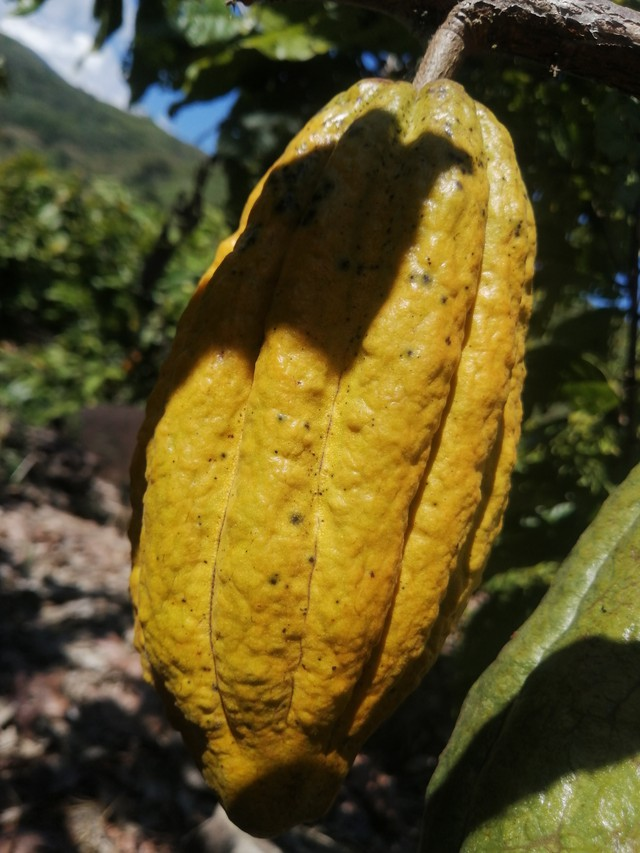Health: (93, 64, 551, 851)
